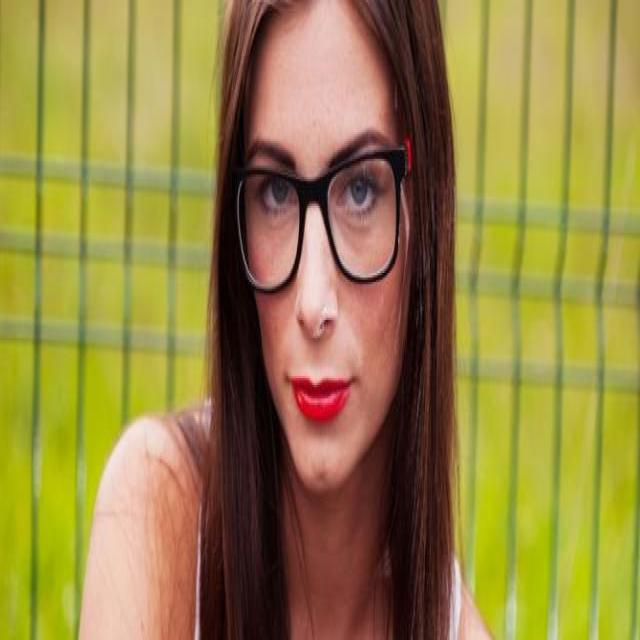glasses: (234, 144, 412, 296)
